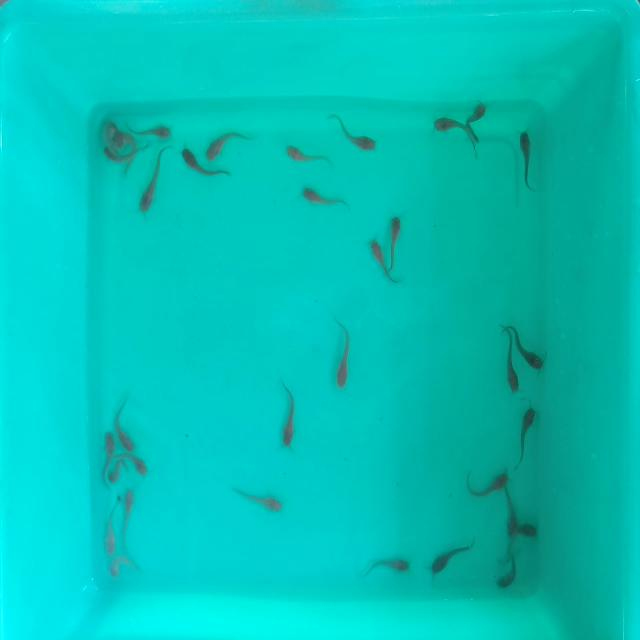lele: (428, 537, 477, 587), (328, 112, 379, 158), (136, 144, 170, 210), (180, 145, 239, 181), (226, 482, 282, 516), (204, 129, 262, 161), (514, 322, 547, 370), (112, 394, 137, 452), (516, 407, 540, 466), (466, 465, 508, 498), (517, 126, 537, 192), (298, 187, 348, 213), (284, 141, 336, 165), (467, 97, 493, 140), (366, 235, 388, 285), (118, 450, 153, 479), (336, 319, 350, 388), (282, 382, 296, 447), (361, 558, 411, 576), (388, 212, 403, 272), (431, 117, 470, 140), (120, 488, 135, 547), (133, 119, 174, 140), (495, 552, 518, 588), (501, 344, 517, 394), (106, 492, 118, 558), (109, 556, 144, 578), (506, 481, 518, 537), (100, 146, 136, 164), (100, 428, 114, 471), (107, 458, 128, 485), (517, 524, 537, 542), (101, 122, 116, 141), (116, 132, 135, 147)
